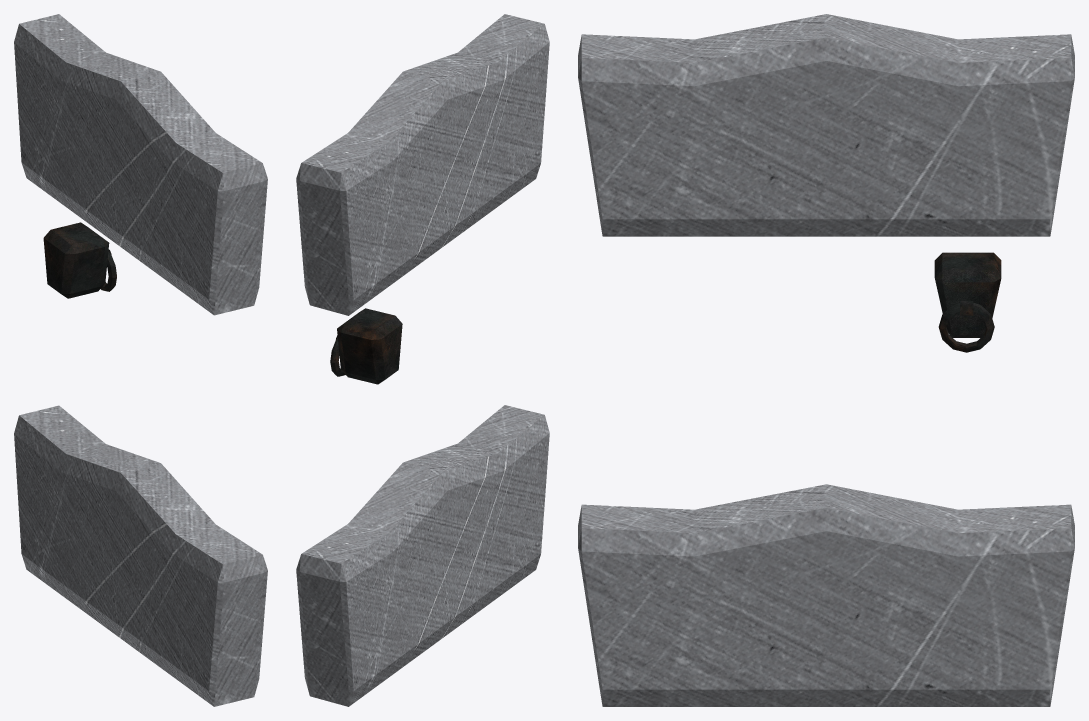
File: RefuerzoMetal_Pomo.fbx
3 renders of one model, left to right at view 1: azimuth 30°, elevation 25°; view 2: azimuth 150°, elevation 25°; view 3: azimuth 270°, elevation 25°, orthographic. The views are drawn at different scales.
Parts seen in each view (by area): view 1: Refuerzo_metal1, Refuerzo_metal2, Pomo; view 2: Refuerzo_metal1, Refuerzo_metal2, Pomo; view 3: Refuerzo_metal1, Refuerzo_metal2, Pomo, Anilla_pomo.
Boxes of the visible parts, bbox=[...] form: Refuerzo_metal1: bbox=[14, 14, 267, 315]; Refuerzo_metal2: bbox=[14, 405, 267, 706]; Pomo: bbox=[43, 222, 109, 298]; Refuerzo_metal1: bbox=[296, 14, 549, 315]; Refuerzo_metal2: bbox=[296, 405, 549, 706]; Pomo: bbox=[337, 308, 402, 384]; Refuerzo_metal1: bbox=[578, 14, 1074, 236]; Refuerzo_metal2: bbox=[578, 484, 1074, 706]; Pomo: bbox=[934, 252, 1001, 337]; Anilla_pomo: bbox=[938, 300, 994, 352].
Bounding box in the file's own units: 1.09 × 10.62 × 7.14.
